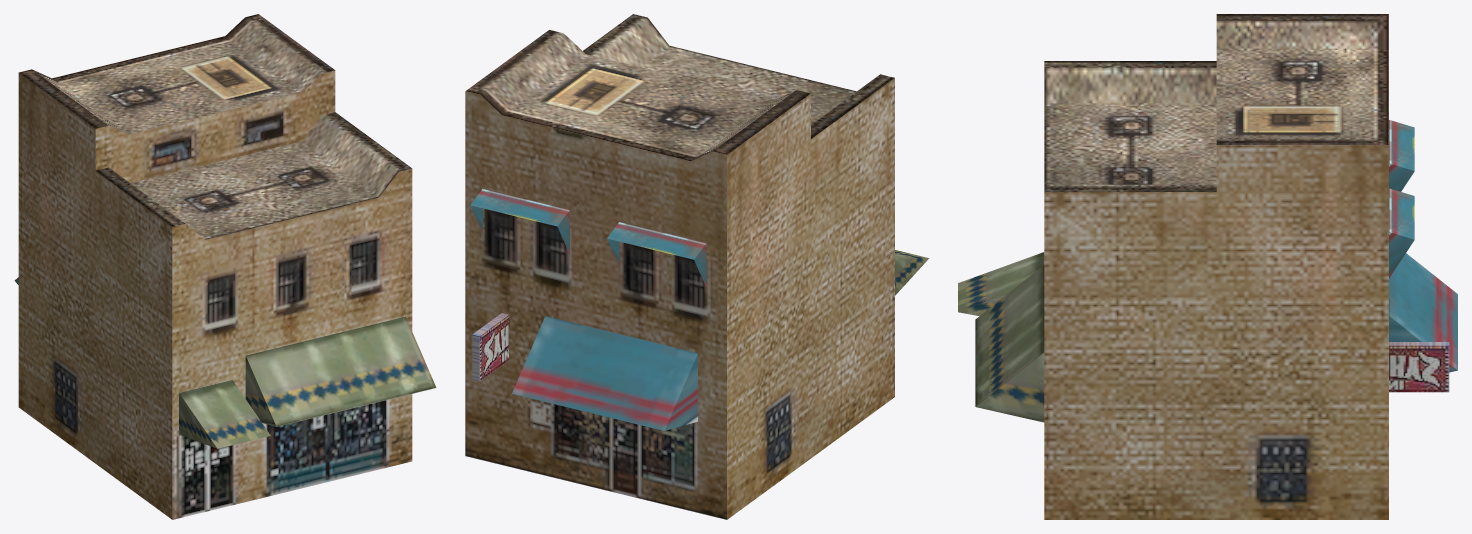
File: Civilian - Commercial Building - Stan Small Retail 01 - CBTsmlrtl1.glb
3 views of the same model, side by side, from view 1: azimuth 30°, elevation 25°; view 2: azimuth 150°, elevation 25°; view 3: azimuth 270°, elevation 25° (orthographic). The views are drawn at different scales.
Visible parts, largest first — view 1: CBTSMLRTL1; view 2: CBTSMLRTL1; view 3: CBTSMLRTL1.
Boxes of the visible parts, left/top/right/bottom form: CBTSMLRTL1: left=14, top=14, right=436, bottom=519; CBTSMLRTL1: left=465, top=14, right=929, bottom=519; CBTSMLRTL1: left=958, top=14, right=1457, bottom=519.
Bounding box in the file's own units: 33.83 × 45.11 × 54.5.
1 material, 1 textured.
